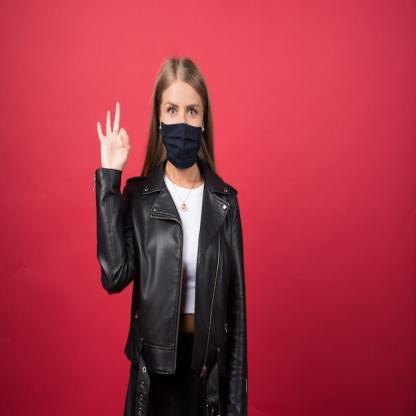ok: (96, 99, 132, 171)
